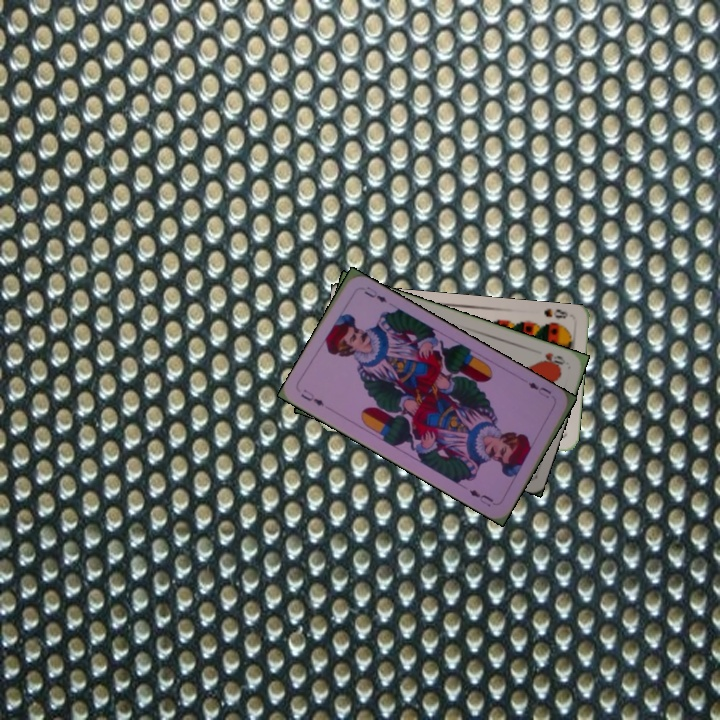EU: (297, 385, 327, 409), (524, 378, 554, 401)
HO: (536, 348, 569, 370)
S8: (540, 305, 570, 321)
